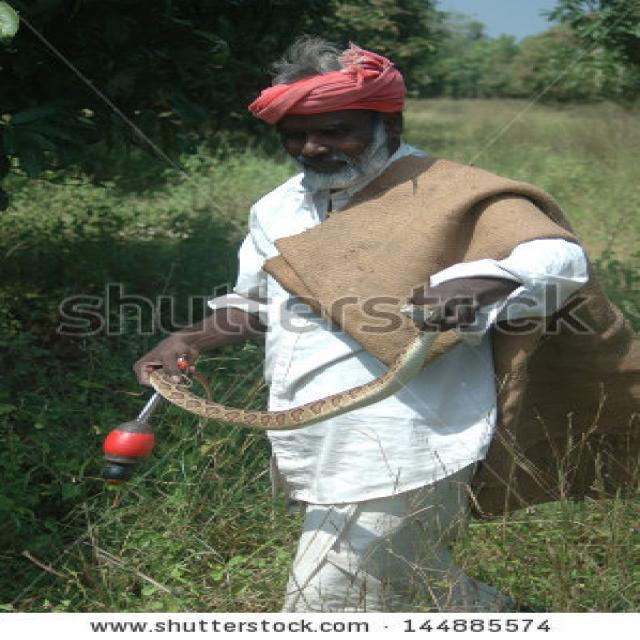Snake: (96, 300, 469, 484)
